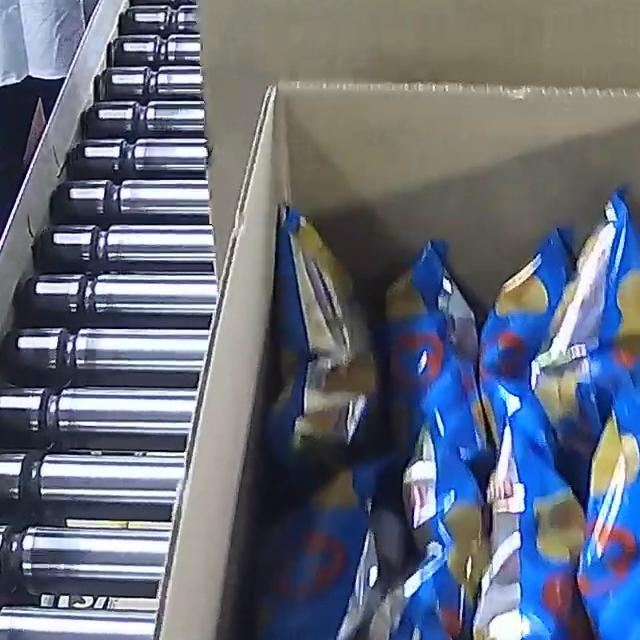paprika: (201, 186, 640, 640)
